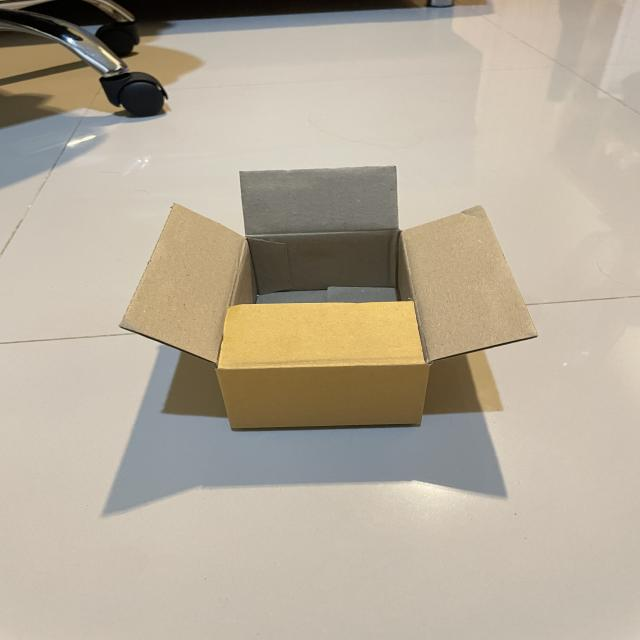box: (117, 164, 540, 432)
opened: (118, 165, 540, 369)
